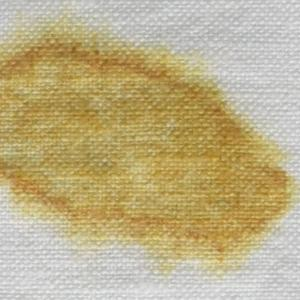Oil Stain: (1, 6, 300, 284)
